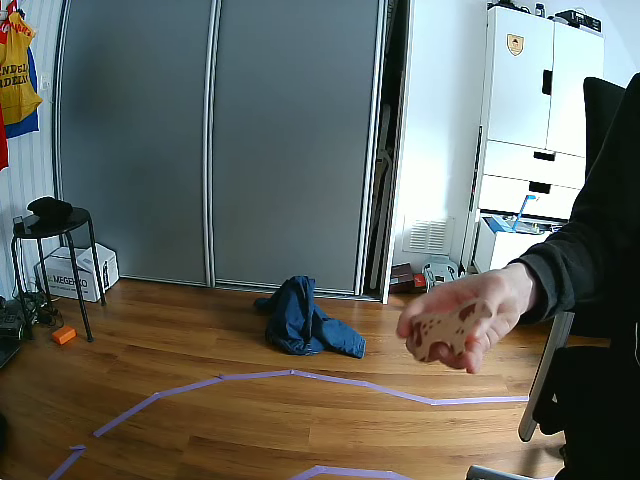paard: (414, 299, 492, 361)
